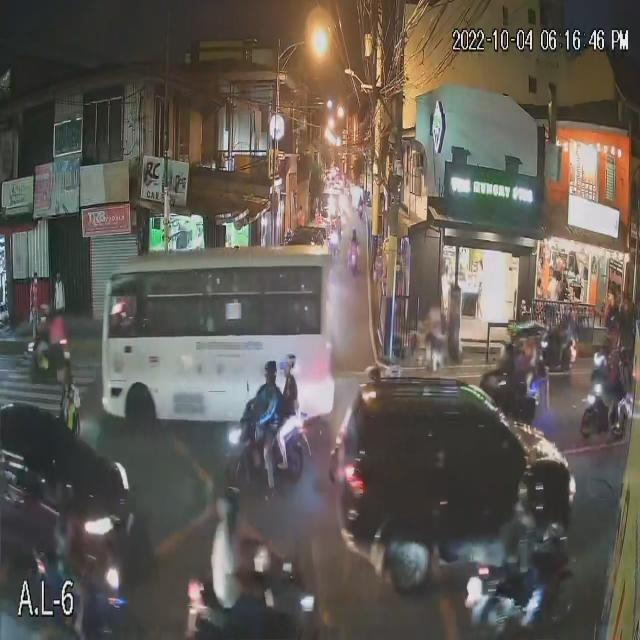helmet: (219, 493, 238, 513), (283, 357, 296, 366), (262, 363, 276, 371)
motorcycle: (188, 588, 324, 638), (467, 579, 580, 627), (227, 428, 320, 477), (572, 381, 631, 436), (27, 343, 78, 373), (591, 352, 636, 383), (538, 335, 577, 370)
rider: (207, 527, 249, 607), (259, 382, 274, 442), (280, 382, 294, 445)
